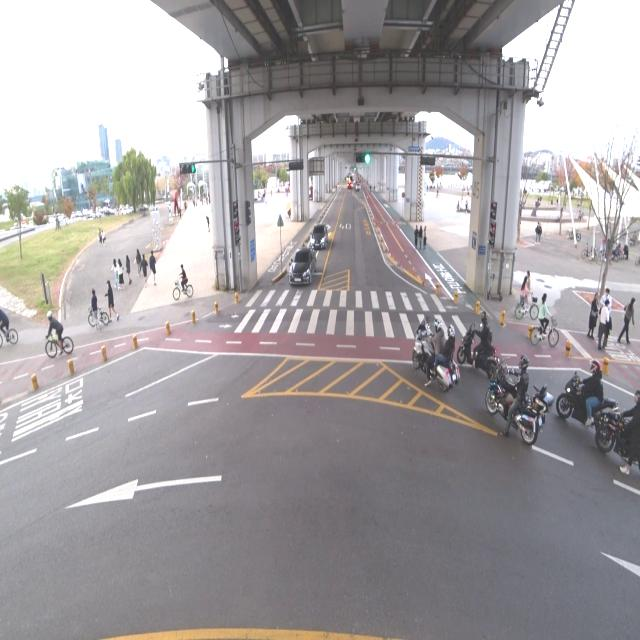Car: (284, 236, 321, 294), (308, 219, 331, 253), (354, 180, 361, 194)
Motorcycle: (484, 351, 554, 446), (592, 371, 640, 479), (559, 353, 619, 439), (410, 312, 461, 394), (456, 304, 502, 382)
